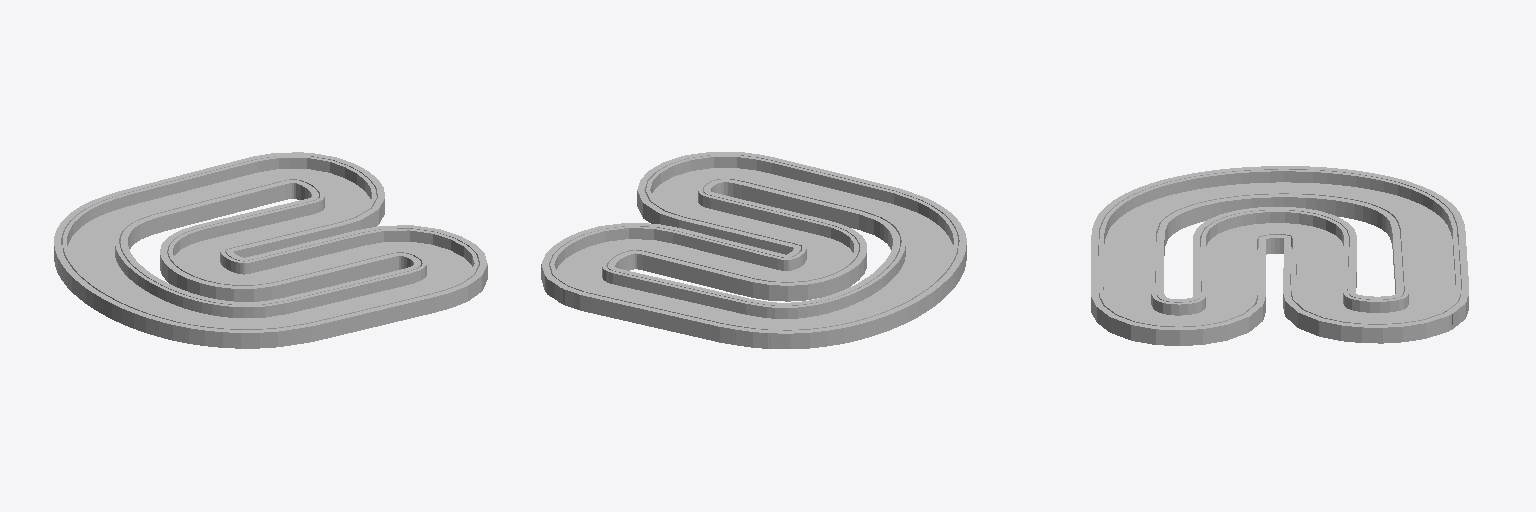
File: MapSnowV4.obj
3 views of the same model, side by side, from view 1: azimuth 30°, elevation 25°; view 2: azimuth 150°, elevation 25°; view 3: azimuth 270°, elevation 25° (orthographic).
Parts seen in each view (by area): view 1: Cube; view 2: Cube; view 3: Cube.
Boxes of the visible parts, x1,y1,x2,y2 form: Cube: [54, 152, 487, 348]; Cube: [541, 152, 966, 348]; Cube: [1091, 166, 1468, 345].
Size of the model in its own units: 72.95 by 3.29 by 70.97.